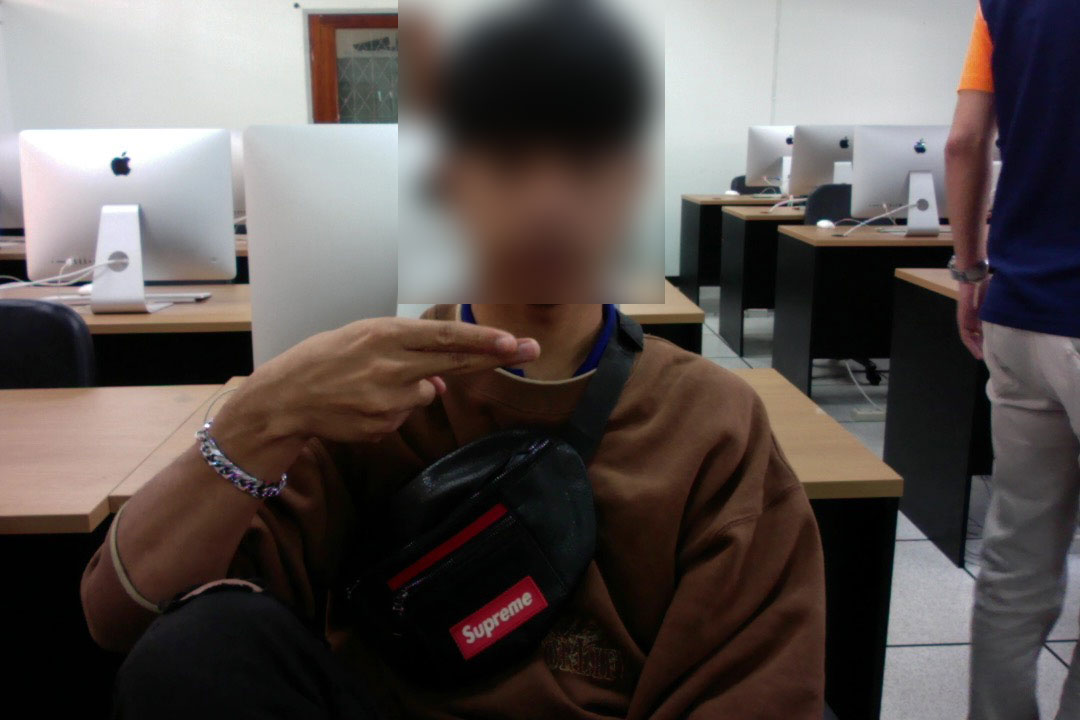hor: (240, 314, 555, 449)
